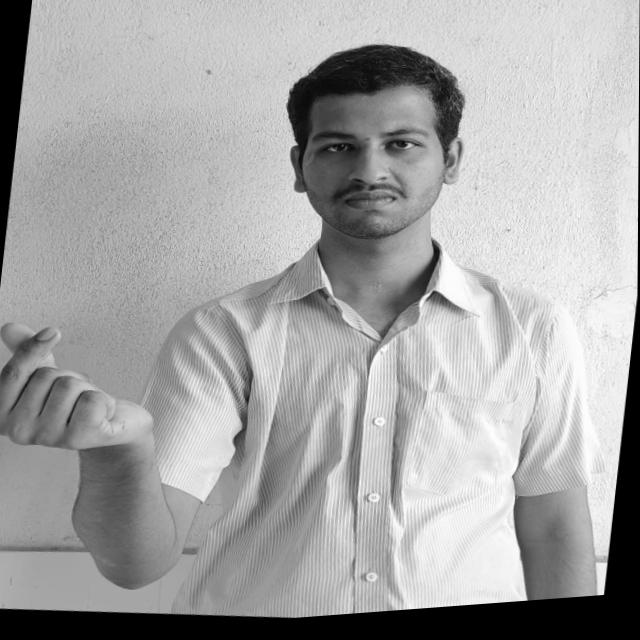Grattitude: (0, 312, 138, 463)
